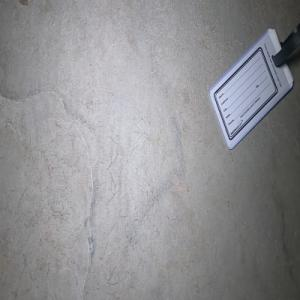LuggageTag: (207, 21, 300, 152)
